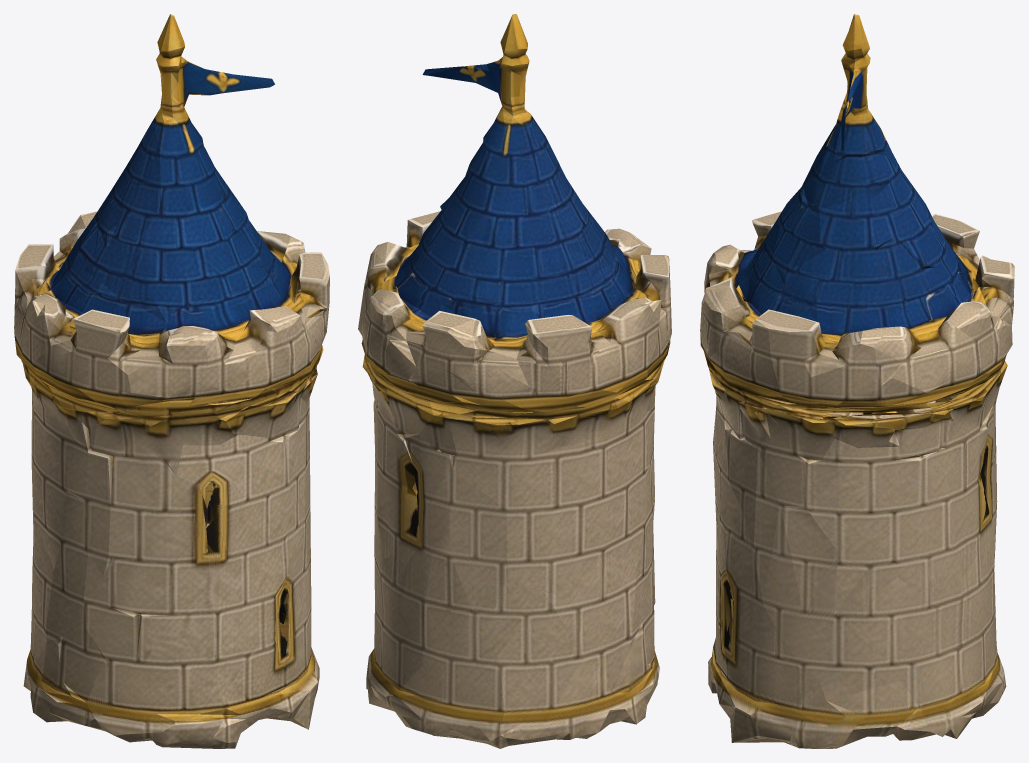
The model's file is royal_tower.glb.
The picture shows the model from 3 angles, left to right: view 1: azimuth 30°, elevation 25°; view 2: azimuth 150°, elevation 25°; view 3: azimuth 270°, elevation 25°; orthographic projection.
Visible parts, largest first — view 1: output_unwrapped; view 2: output_unwrapped; view 3: output_unwrapped.
Part boxes in pixels (left/top/right/bottom): output_unwrapped: left=14, top=14, right=329, bottom=748; output_unwrapped: left=358, top=14, right=671, bottom=748; output_unwrapped: left=700, top=14, right=1014, bottom=748.
Size of the model in its own units: 0.7855 by 1.89 by 0.7818.
1 material, 1 textured.
